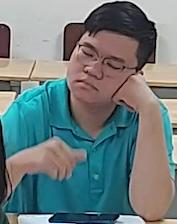Sleeping: (4, 4, 174, 214)
